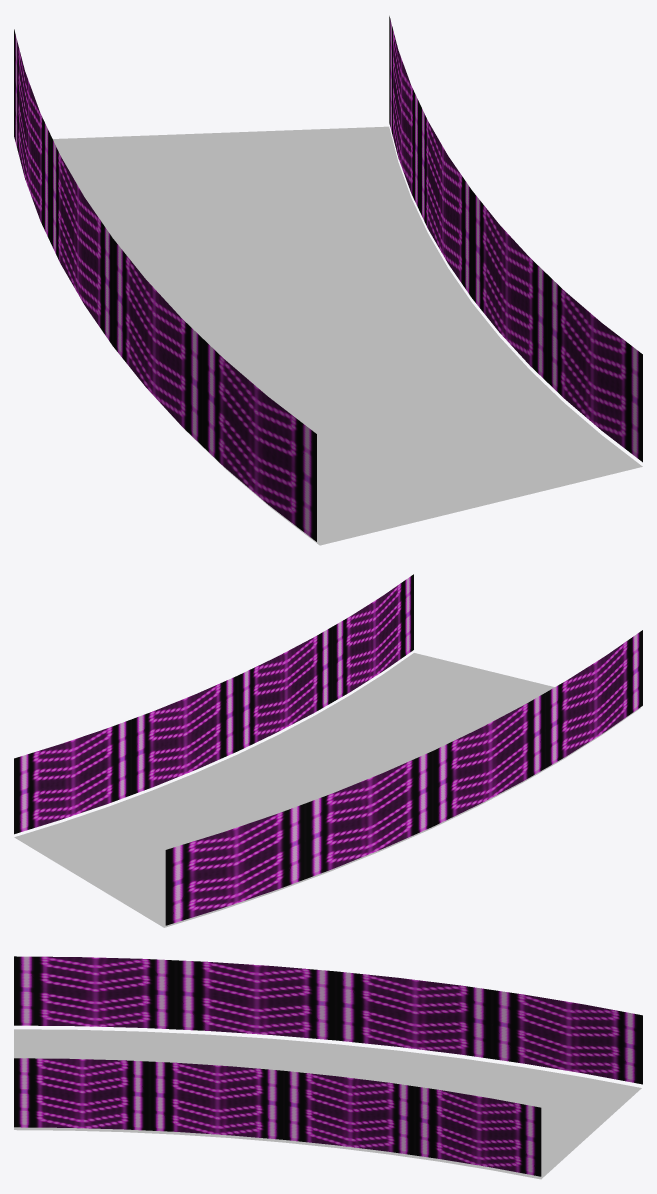
The model's file is road_sign_25_Right.FBX.
The picture shows the model from 3 angles, top to bottom: view 1: azimuth 30°, elevation 25°; view 2: azimuth 150°, elevation 25°; view 3: azimuth 270°, elevation 25°; orthographic projection. The views are drawn at different scales.
Visible parts, largest first — view 1: Loft006, sign; view 2: sign, Loft006; view 3: sign, Loft006.
Part boxes in pixels (left/top/right/bottom): Loft006: left=53, top=126, right=642, bottom=545; sign: left=14, top=16, right=642, bottom=541; sign: left=14, top=574, right=642, bottom=925; Loft006: left=14, top=653, right=640, bottom=927; sign: left=14, top=956, right=642, bottom=1176; Loft006: left=14, top=1029, right=641, bottom=1179.
Bounding box in the file's own units: 59.95 × 105 × 13.28.
